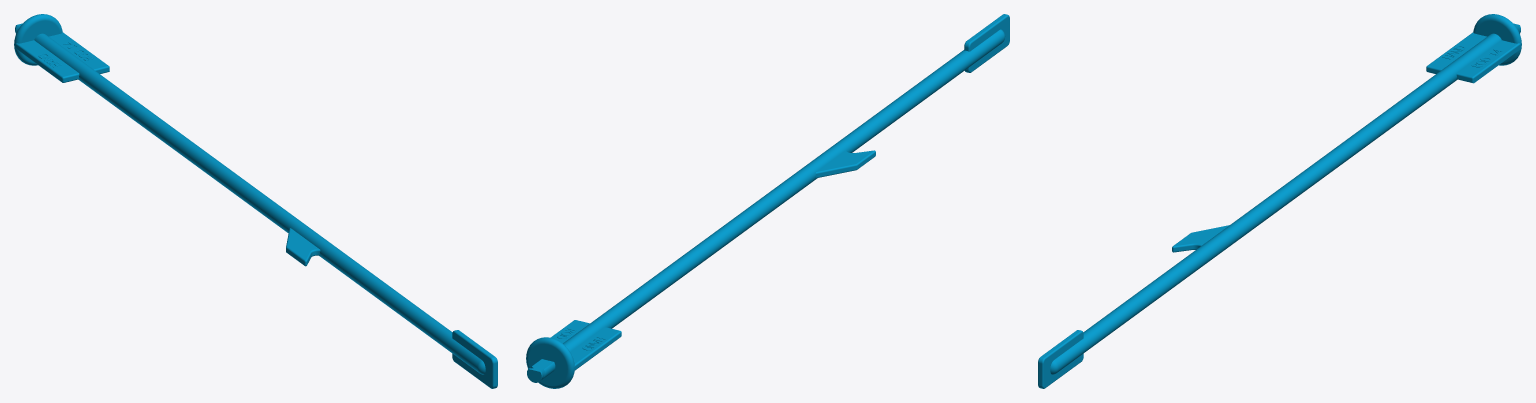
File: PART 14 HAND ROD.fbx
3 views of the same model, side by side, from view 1: azimuth 30°, elevation 25°; view 2: azimuth 150°, elevation 25°; view 3: azimuth 330°, elevation 25° (orthographic).
Parts seen in each view (by area): view 1: PART 14 HAND ROD; view 2: PART 14 HAND ROD; view 3: PART 14 HAND ROD.
Boxes of the visible parts, x1,y1,x2,y2 form: PART 14 HAND ROD: (14,14,497,388); PART 14 HAND ROD: (526,14,1009,388); PART 14 HAND ROD: (1038,14,1521,388).
Bounding box in the file's own units: 1.43 × 1.27 × 21.91.
